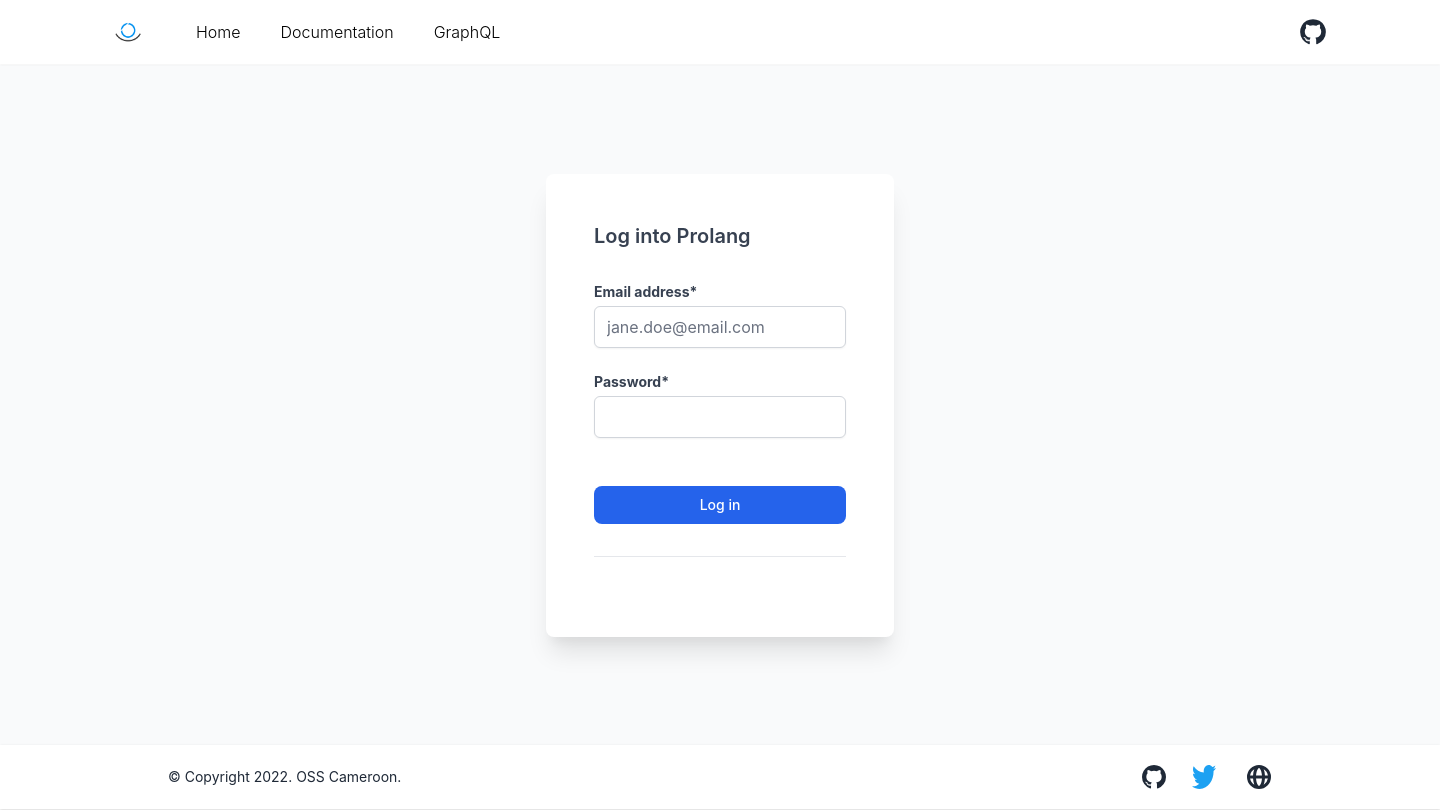
Test: Login page › should display errors when inputs are empty
What coordinates should you click on to do the following:
click the button "Log in"
I would click on:
 (720, 504)
Its box is [594, 486, 846, 524].
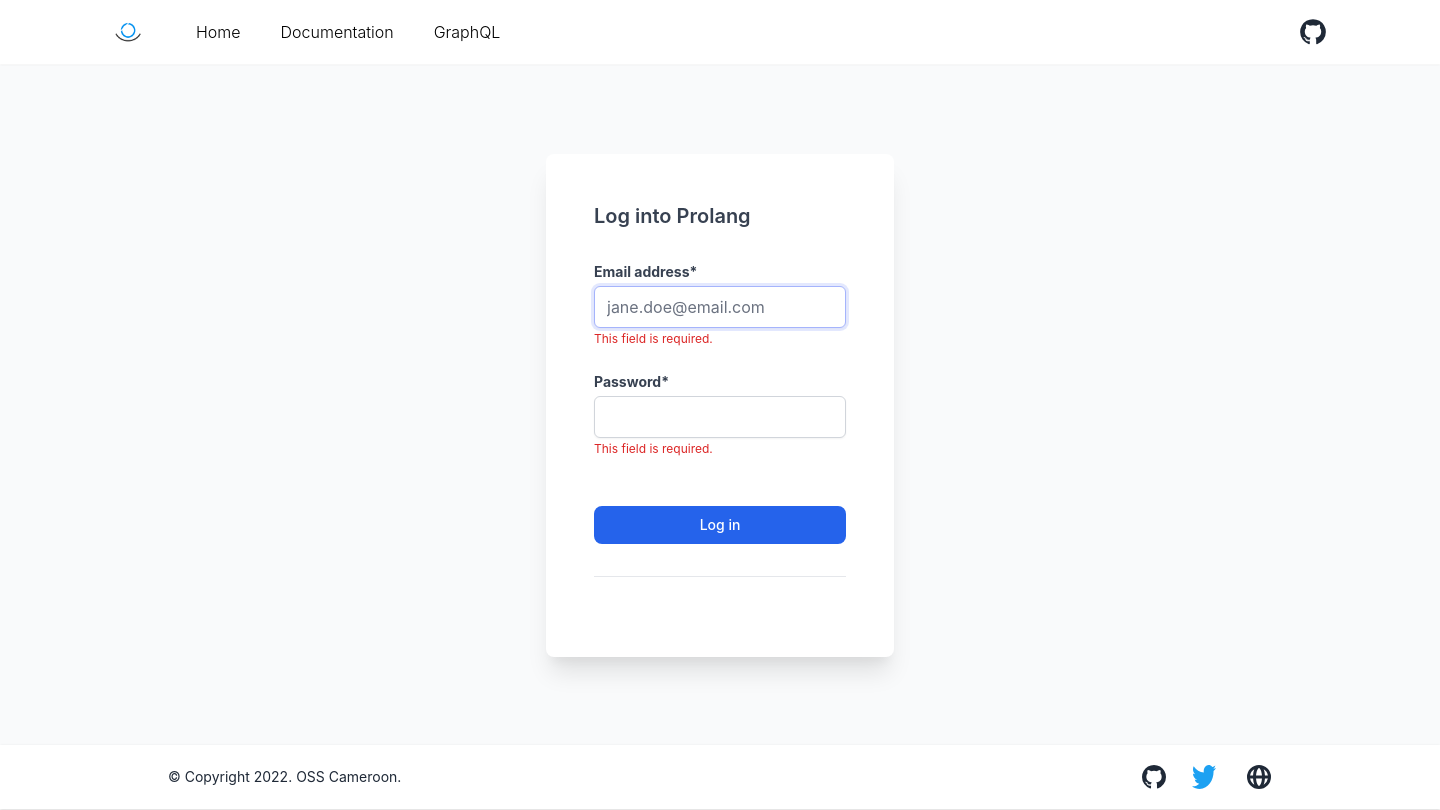
Expected: the field labelled "Email address* This field is required." is empty, [594, 286, 846, 328]
Now the text "This field is required." is shown 2 times, box [594, 330, 713, 346]; [594, 440, 713, 456]
